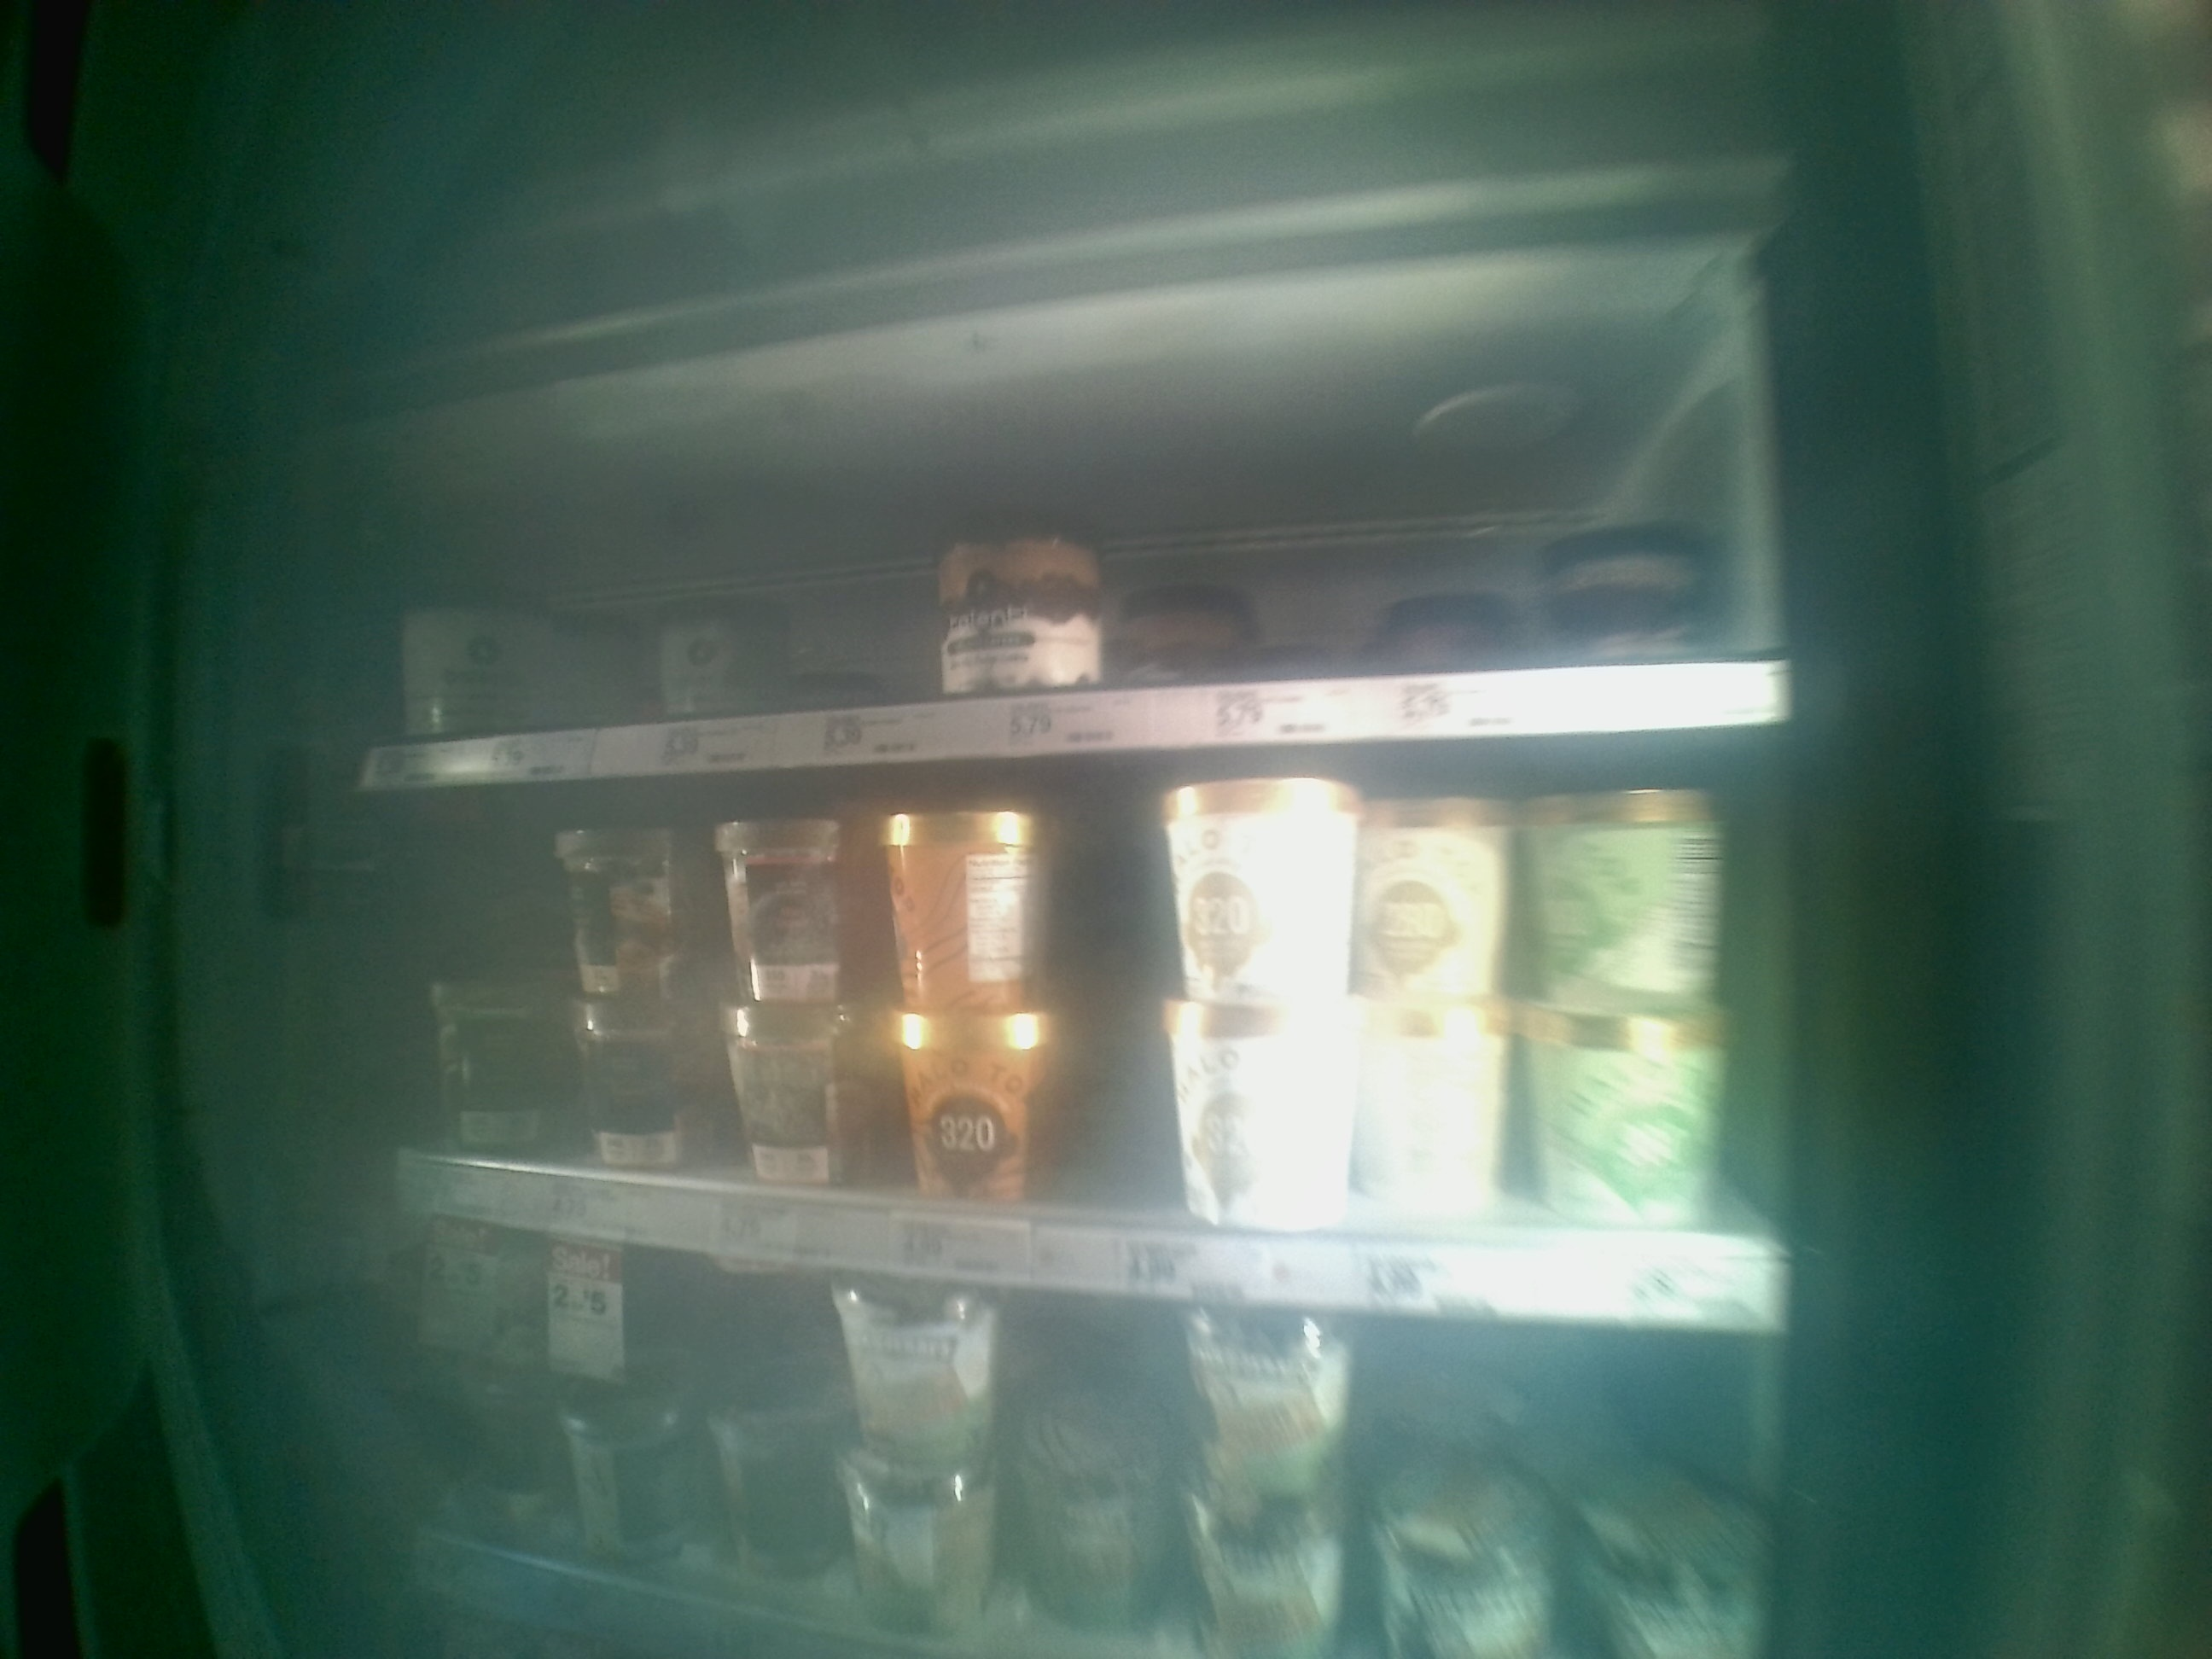shelf: (361, 777, 1804, 1326), (361, 347, 1771, 779)
